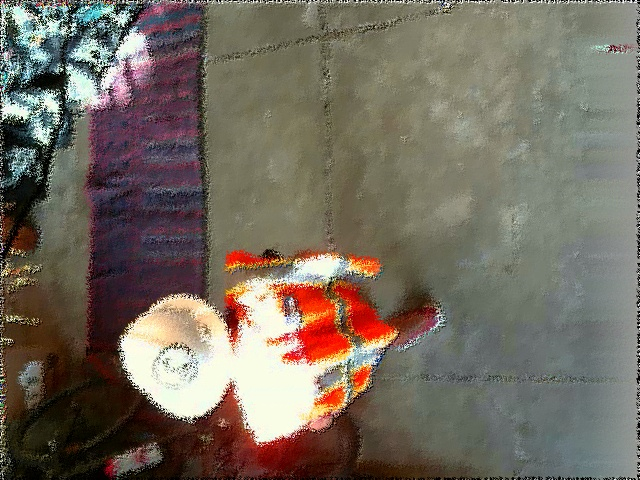two: (153, 345, 194, 389)
